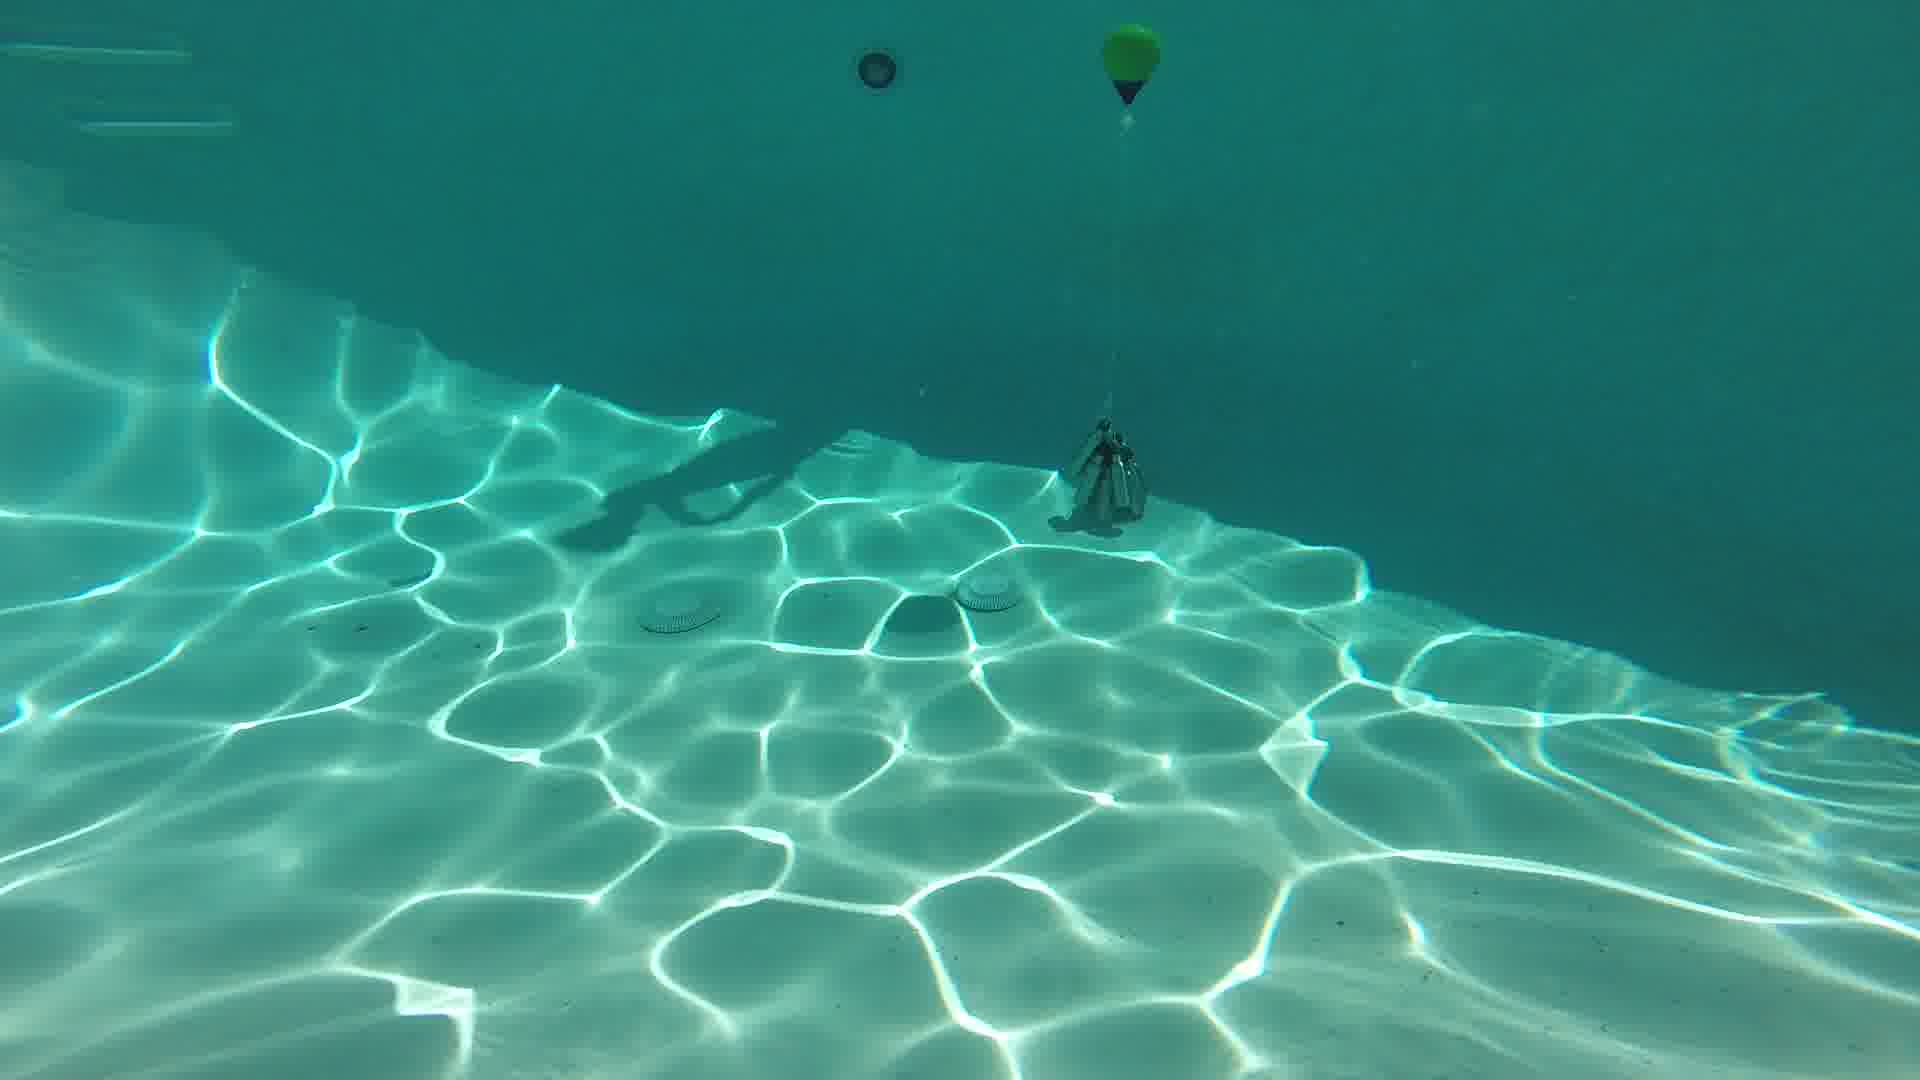yellow_buoy: (1106, 25, 1160, 102)
